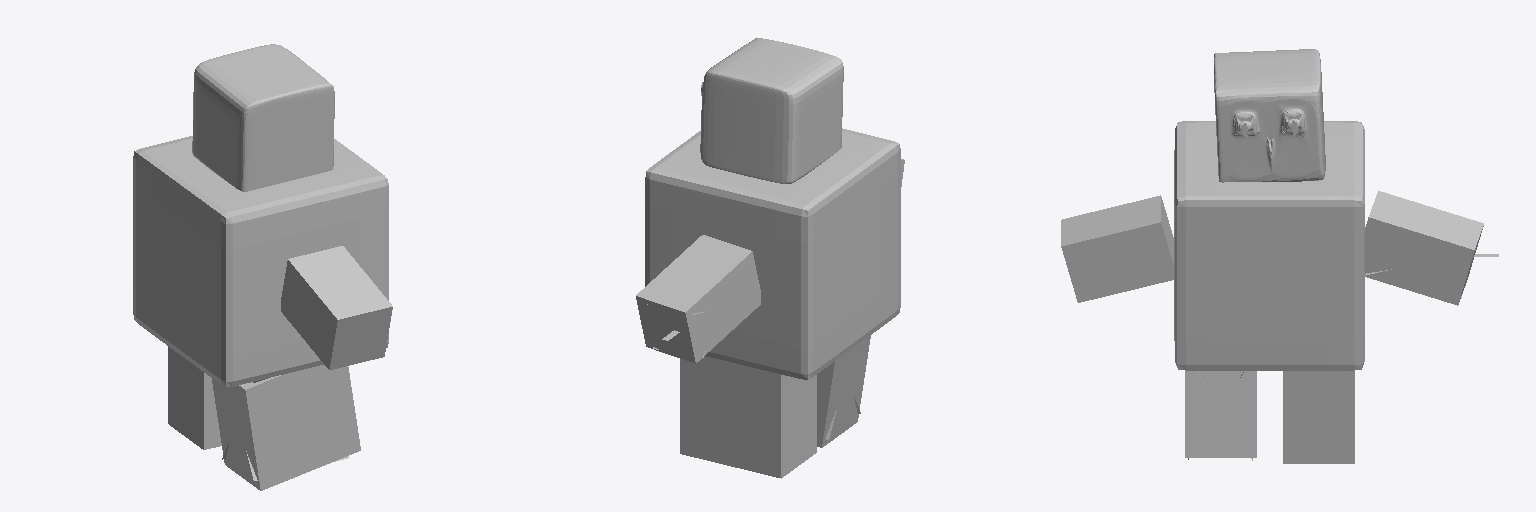
3 views of the same model, side by side, from view 1: azimuth 30°, elevation 25°; view 2: azimuth 150°, elevation 25°; view 3: azimuth 270°, elevation 25° (orthographic).
Visible parts, largest first — view 1: Cube_Cube.001, Cube.001_Cube.002, CollisionLL_Cube.003, Cube.005_Cube.007, Cube.003_Cube.004; view 2: Cube_Cube.001, Cube.001_Cube.002, Cube.003_Cube.004, Cube.004_Cube.005, CollisionLL_Cube.003; view 3: Cube_Cube.001, Cube.001_Cube.002, Cube.004_Cube.005, Cube.005_Cube.007, Cube.003_Cube.004, CollisionLL_Cube.003.
Part boxes in pixels (bbox=[...]): Cube_Cube.001: bbox=[133, 136, 388, 386]; Cube.001_Cube.002: bbox=[192, 44, 334, 191]; CollisionLL_Cube.003: bbox=[212, 365, 360, 490]; Cube.005_Cube.007: bbox=[281, 246, 392, 369]; Cube.003_Cube.004: bbox=[168, 346, 221, 449]; Cube_Cube.001: bbox=[645, 128, 900, 379]; Cube.001_Cube.002: bbox=[700, 38, 843, 183]; Cube.003_Cube.004: bbox=[680, 356, 816, 478]; Cube.004_Cube.005: bbox=[636, 235, 760, 363]; CollisionLL_Cube.003: bbox=[817, 335, 870, 447]; Cube_Cube.001: bbox=[1174, 121, 1364, 370]; Cube.001_Cube.002: bbox=[1214, 49, 1325, 182]; Cube.004_Cube.005: bbox=[1365, 191, 1483, 305]; Cube.005_Cube.007: bbox=[1061, 195, 1173, 302]; Cube.003_Cube.004: bbox=[1283, 370, 1354, 463]; CollisionLL_Cube.003: bbox=[1185, 370, 1256, 457].
Size of the model in its own units: 1.46 by 3.2 by 3.34.